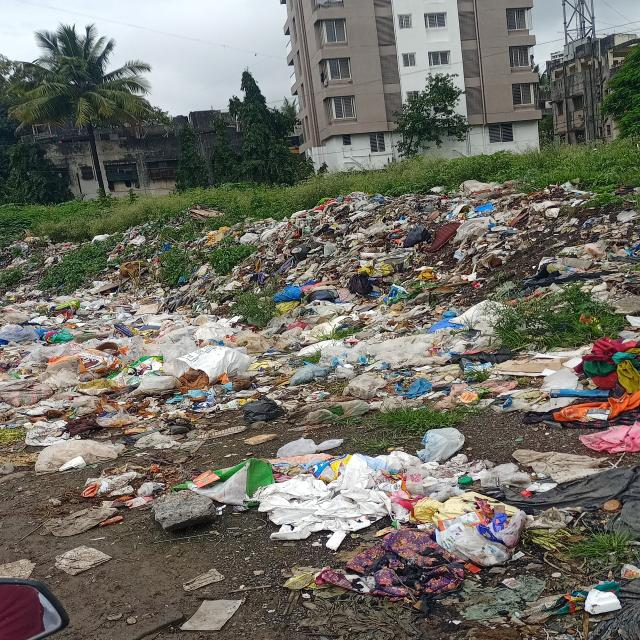garbage: (198, 187, 640, 624), (4, 232, 189, 520)
